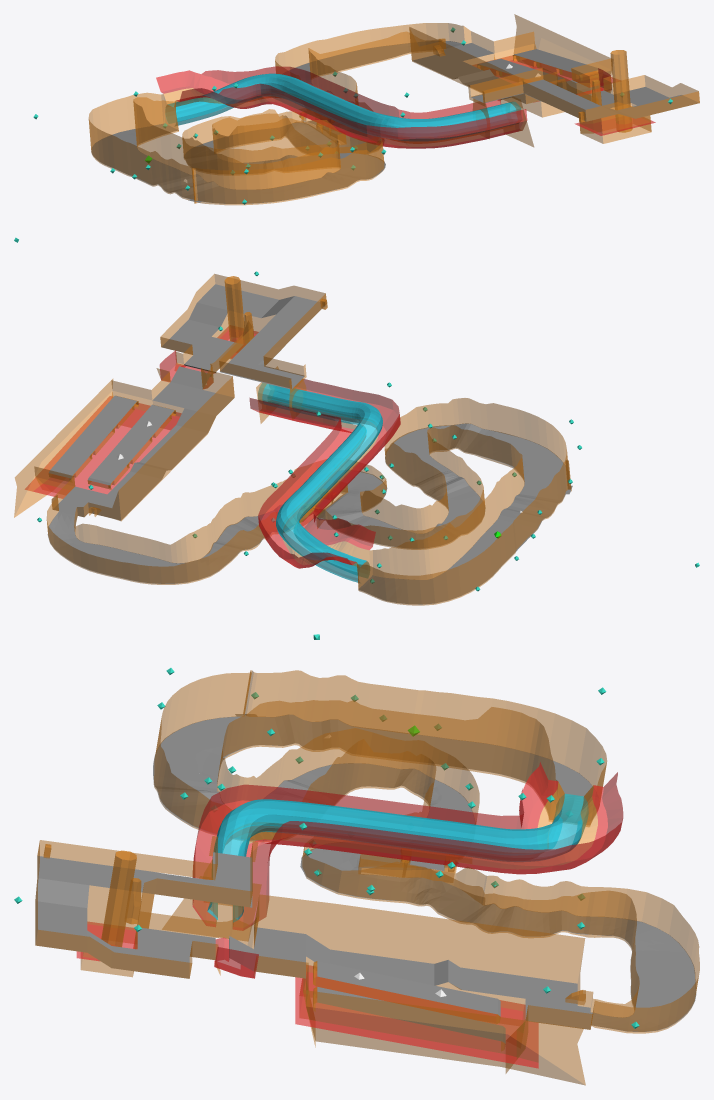
File: Assembly(Complete).obj
3 views of the same model, one above another, from view 1: azimuth 30°, elevation 25°; view 2: azimuth 150°, elevation 25°; view 3: azimuth 270°, elevation 25° (orthographic). The views are drawn at different scales.
Visible parts, largest first — view 1: COL_Wall01, COL_track_coll, COL_reset04, COL_maglev01, COL_reset01, COL_Wall_crusher, COL_tartrack01, COL_conveyortrack; view 2: COL_Wall01, COL_track_coll, COL_reset04, COL_maglev01, COL_reset01, COL_conveyortrack, COL_tartrack01, COL_Wall_crusher; view 3: COL_Wall01, COL_track_coll, COL_reset04, COL_maglev01, COL_reset01, COL_conveyortrack, COL_tartrack01, COL_Wall_crusher.
Boxes of the visible parts, x1,y1,x2,y2 form: COL_Wall01: (88,14,699,205); COL_track_coll: (91,41,699,203); COL_reset04: (156,66,527,148); COL_maglev01: (165,73,520,140); COL_reset01: (473,56,655,135); COL_Wall_crusher: (610,50,632,132); COL_tartrack01: (120,123,375,191); COL_conveyortrack: (478,58,563,81); COL_Wall01: (14,274,571,605); COL_track_coll: (47,284,572,604); COL_reset04: (249,379,400,568); COL_maglev01: (258,383,382,582); COL_reset01: (25,327,258,498); COL_conveyortrack: (88,404,174,485); COL_tartrack01: (202,425,525,602); COL_Wall_crusher: (224,276,244,342); COL_Wall01: (35,670,699,1085); COL_track_coll: (35,714,696,1043); COL_reset04: (192,762,623,930); COL_maglev01: (207,793,588,922); COL_reset01: (76,922,538,1068); COL_conveyortrack: (317,961,500,1016); COL_tartrack01: (165,746,600,935); COL_Wall_crusher: (101,850,136,947).
Bounding box in the file's own units: 455 × 97.88 × 317.
